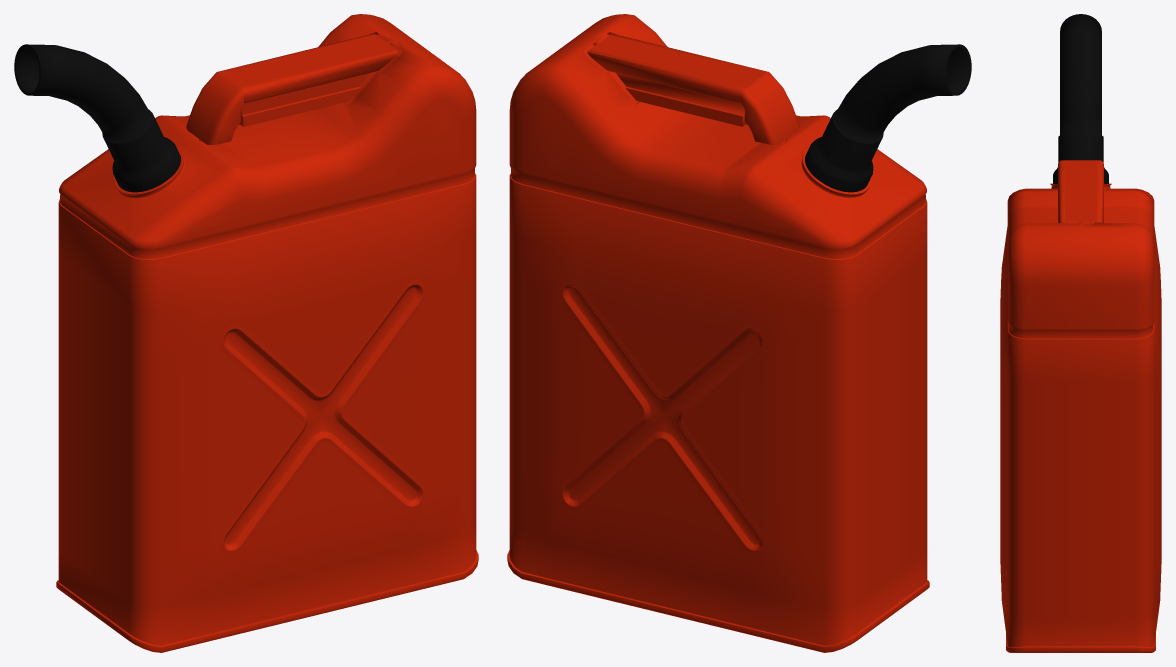
Rendered from petrolCan.fbx.
3 renders of one model, left to right at view 1: azimuth 30°, elevation 25°; view 2: azimuth 150°, elevation 25°; view 3: azimuth 270°, elevation 25°, orthographic. The views are drawn at different scales.
Visible parts, largest first — view 1: Jerrycan; view 2: Jerrycan; view 3: Jerrycan.
Boxes of the visible parts, x1,y1,x2,y2 form: Jerrycan: (14,14,478,652); Jerrycan: (507,14,971,652); Jerrycan: (1000,14,1161,652).
Size of the model in its own units: 53.18 by 72.36 by 21.86.
